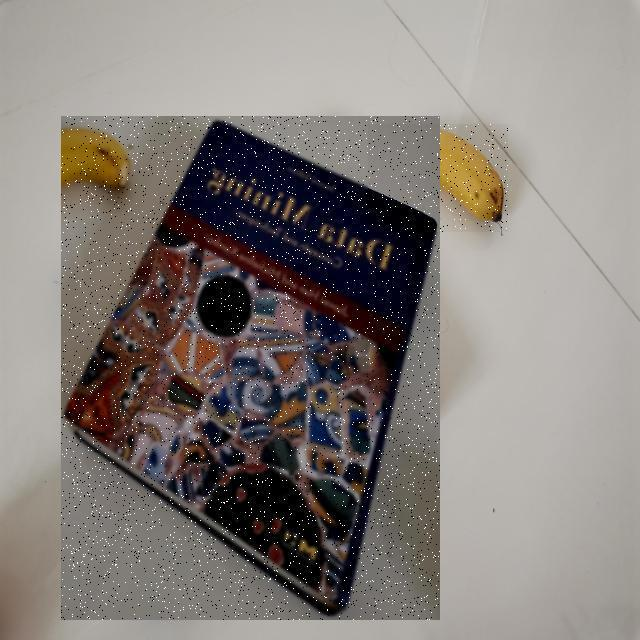banana: (114, 116, 622, 348)
